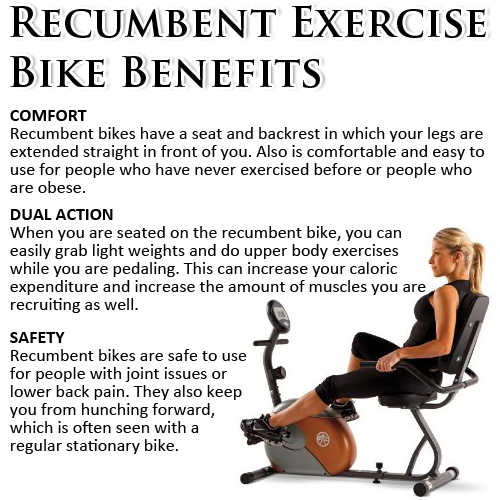gym_bike: (231, 289, 489, 495)
